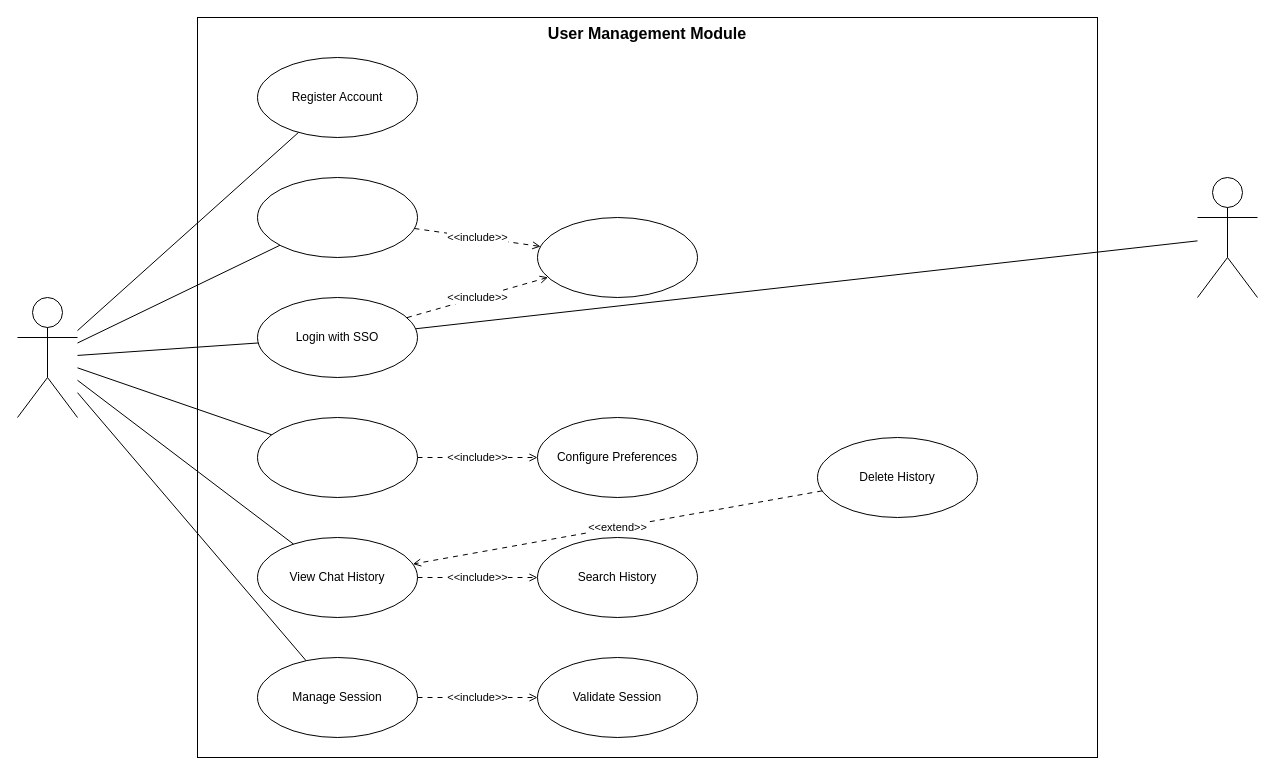
The diagram is 1281 pixels wide and 775 high, and some of its shapes have lost their labels. The shapes that lost their labels are listed below. From the top down, each one's box as (x1, y1, x2, y2) in pixels, then its label:
(256, 176, 418, 258): Login with Email/Password
(1196, 176, 1258, 298): SSO Provider
(536, 216, 698, 298): Authenticate User
(16, 296, 78, 418): User
(256, 416, 418, 498): Manage User Profile
